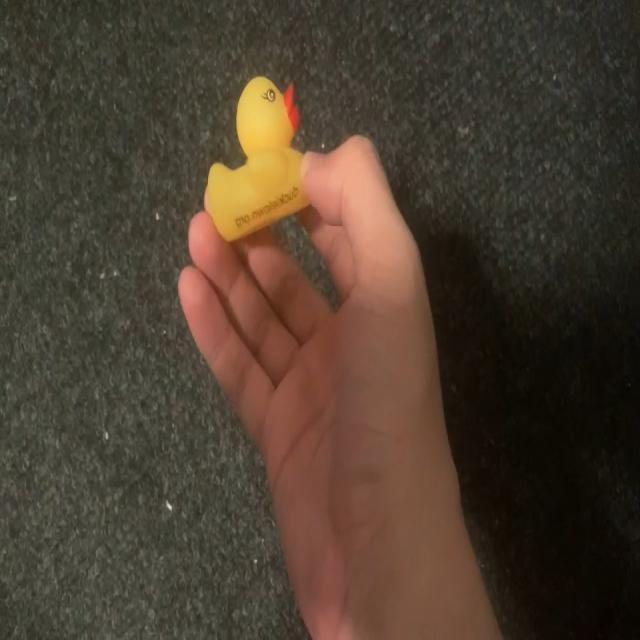rubber-duck: (204, 75, 306, 239)
